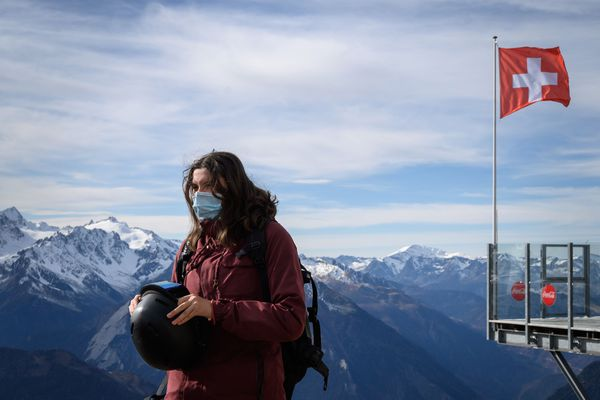with_mask: (191, 174, 223, 222)
